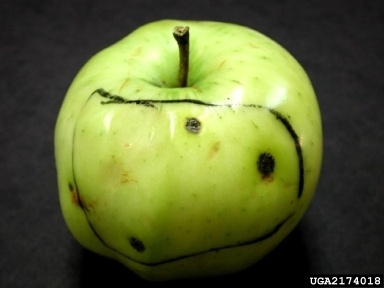defect: (67, 102, 306, 254)
